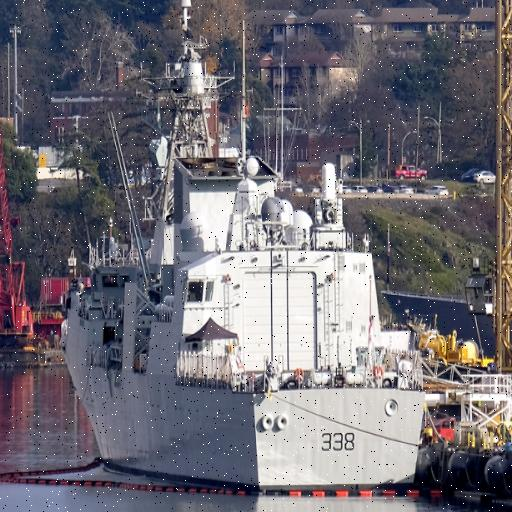Fragata: (62, 1, 432, 496)
